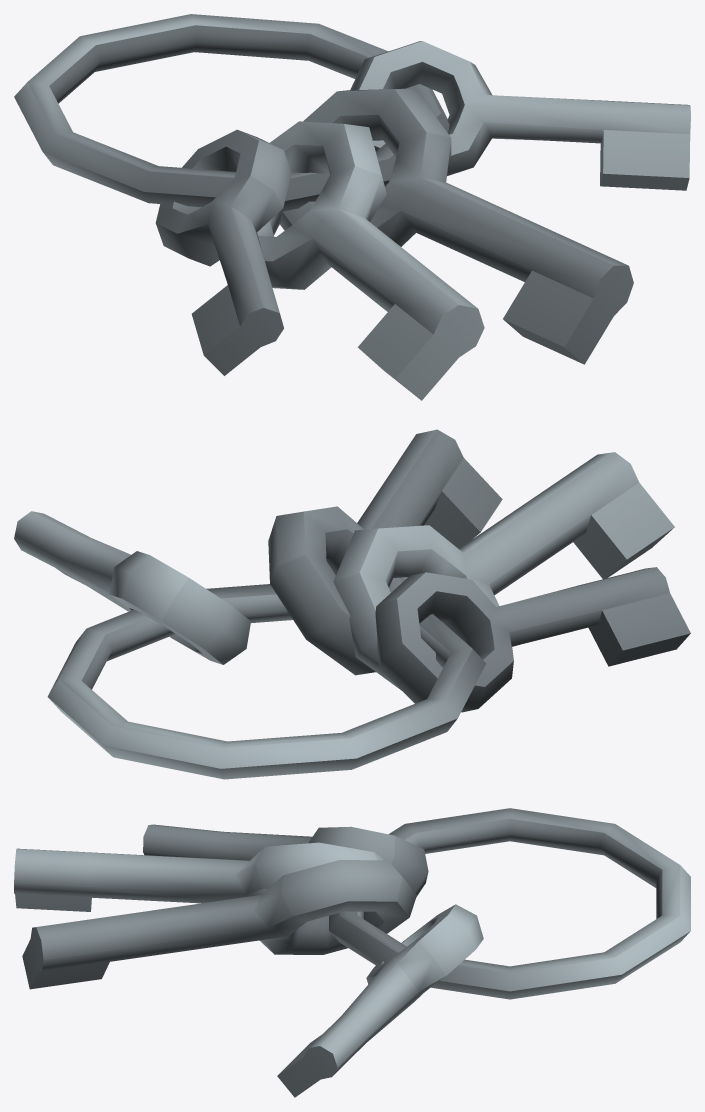
File: keyring.gltf
The picture shows the model from 3 angles, top to bottom: view 1: azimuth 30°, elevation 25°; view 2: azimuth 150°, elevation 25°; view 3: azimuth 270°, elevation 25°; orthographic projection. The views are drawn at different scales.
Parts seen in each view (by area): view 1: keyring; view 2: keyring; view 3: keyring.
Part boxes in pixels (<box>): keyring: <box>14,14,690,400</box>; keyring: <box>14,429,690,779</box>; keyring: <box>14,808,690,1097</box>.
Size of the model in its own units: 1.03 by 0.2614 by 1.21.
Materials: 1 (1 with a texture image).
